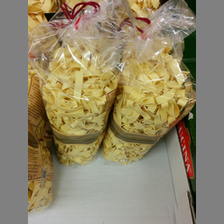pasta: (27, 23, 120, 165), (101, 41, 196, 161)
